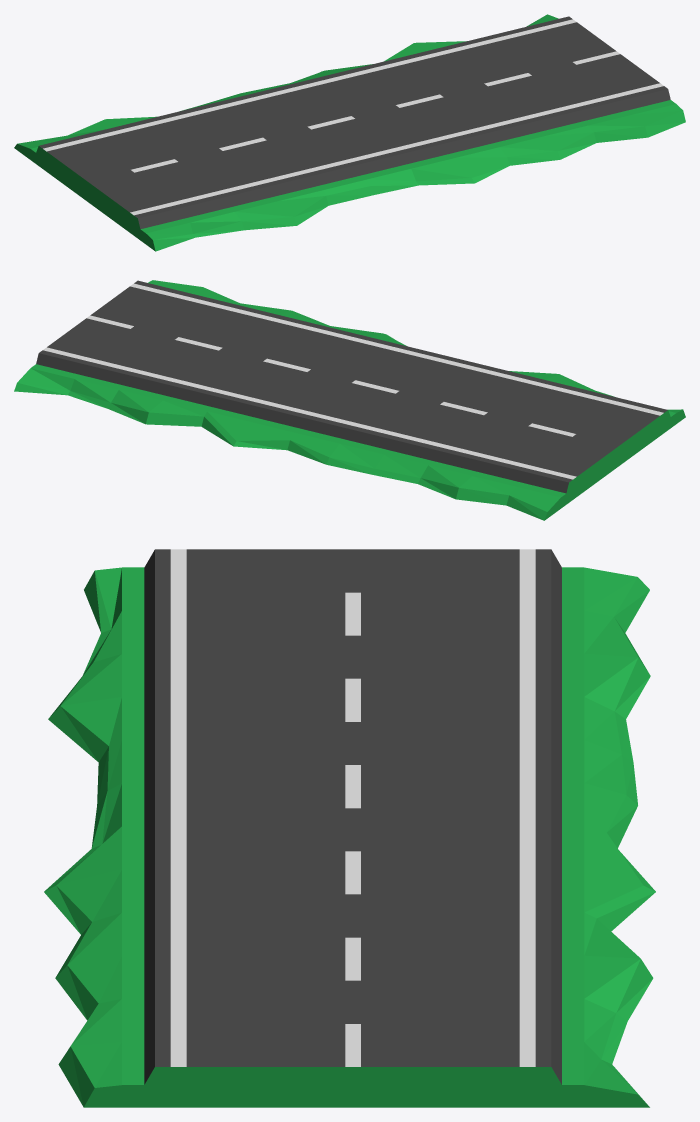
The model's file is 1229 Road.obj.
The picture shows the model from 3 angles, top to bottom: view 1: azimuth 30°, elevation 25°; view 2: azimuth 150°, elevation 25°; view 3: azimuth 270°, elevation 25°; orthographic projection. The views are drawn at different scales.
Parts seen in each view (by area): view 1: Road; view 2: Road; view 3: Road.
Boxes of the visible parts, <box> form: Road: <box>14,14,685,251</box>; Road: <box>14,280,685,520</box>; Road: <box>44,549,655,1107</box>.
Size of the model in its own units: 200 by 7.31 by 100.
Materials: 1 (1 with a texture image).
